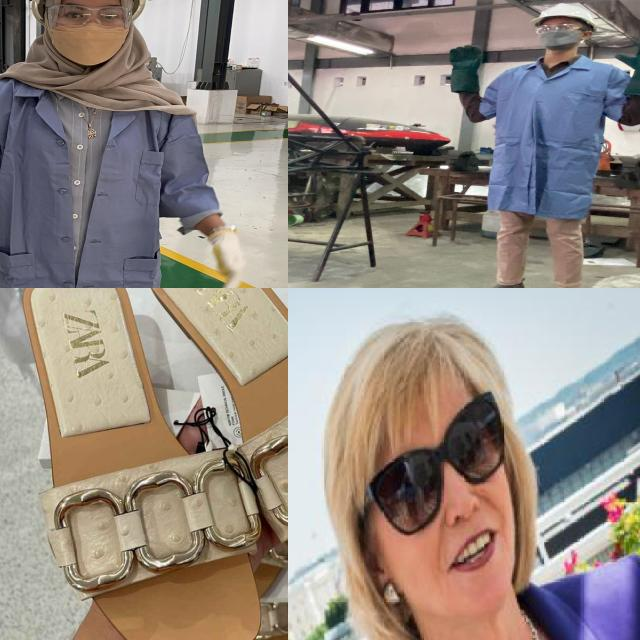Sandals: (0, 288, 288, 640)
face_mask: (42, 1, 132, 66), (532, 20, 585, 50)
face_nomask: (345, 393, 543, 598)
glasses: (363, 404, 515, 541), (43, 1, 138, 29), (531, 22, 589, 36)
hand_glove: (199, 234, 255, 288), (444, 42, 488, 79), (612, 36, 640, 76)
head_helmet: (528, 0, 599, 25)
head_nohelmet: (314, 297, 518, 405)
person: (288, 308, 640, 640), (0, 0, 261, 288), (436, 0, 640, 288)
shoes: (463, 276, 533, 288)
